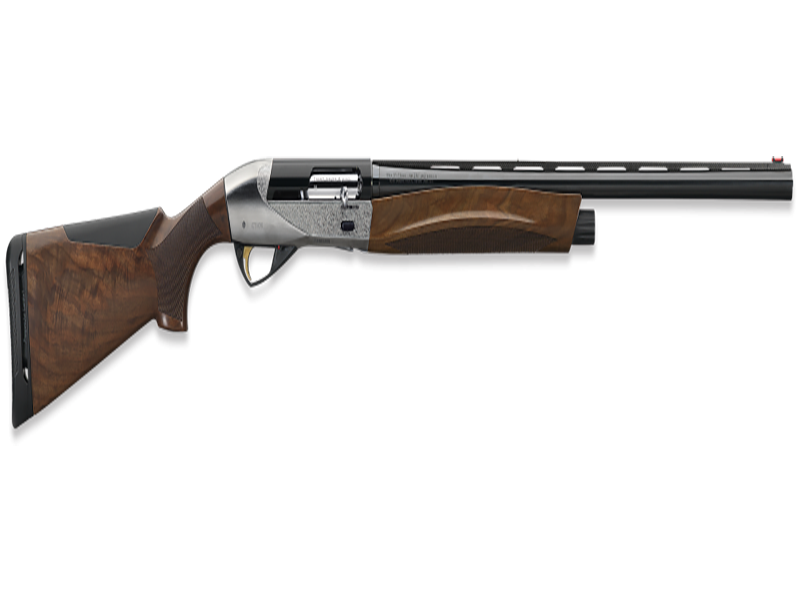fucile: (6, 106, 798, 445)
